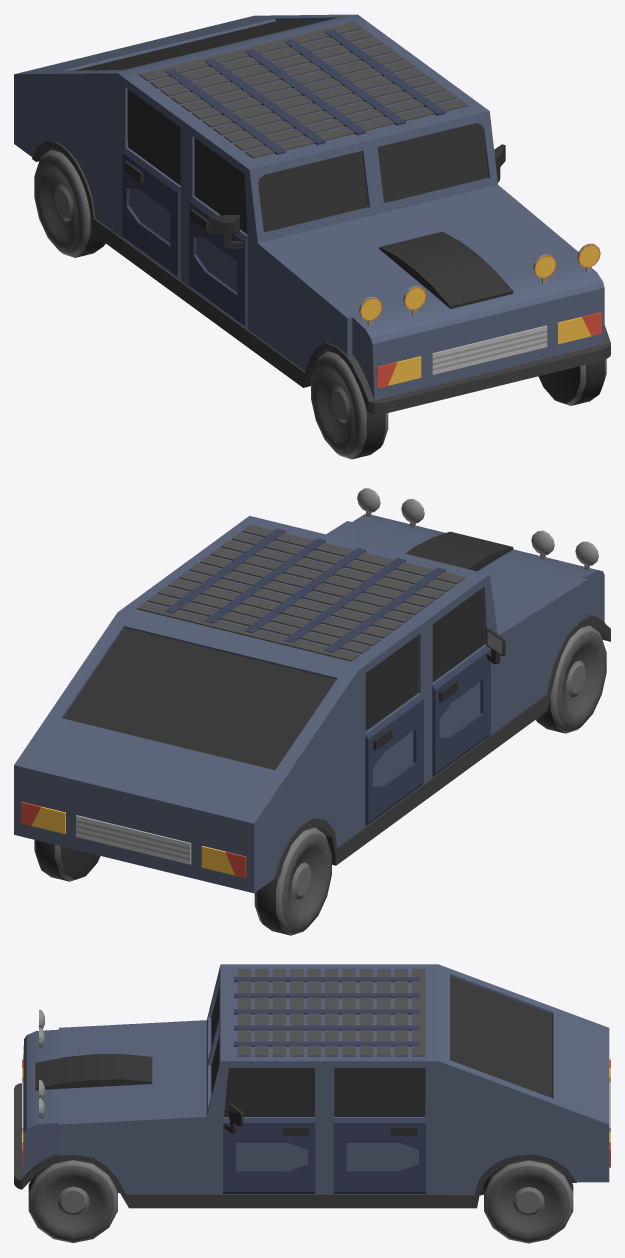
The model's file is jeep03_color03.fbx.
3 views of the same model, one above another, from view 1: azimuth 30°, elevation 25°; view 2: azimuth 150°, elevation 25°; view 3: azimuth 270°, elevation 25° (orthographic). The views are drawn at different scales.
Visible parts, largest first — view 1: Plane.039, Plane.043, Plane.040, Plane.041; view 2: Plane.039, Plane.040, Plane.043, Plane.042; view 3: Plane.039, Plane.042, Plane.041.
Part boxes in pixels (x1,y1,x2,y2): Plane.039: (14,14,610,413); Plane.043: (311,350,388,459); Plane.040: (34,149,105,257); Plane.041: (538,359,606,405); Plane.039: (14,488,610,893); Plane.040: (254,826,331,935); Plane.043: (536,624,606,733); Plane.042: (34,840,100,881); Plane.039: (14,964,610,1208); Plane.042: (484,1159,573,1243); Plane.041: (28,1160,117,1243).
Bounding box in the file's own units: 269 × 193 × 568.
